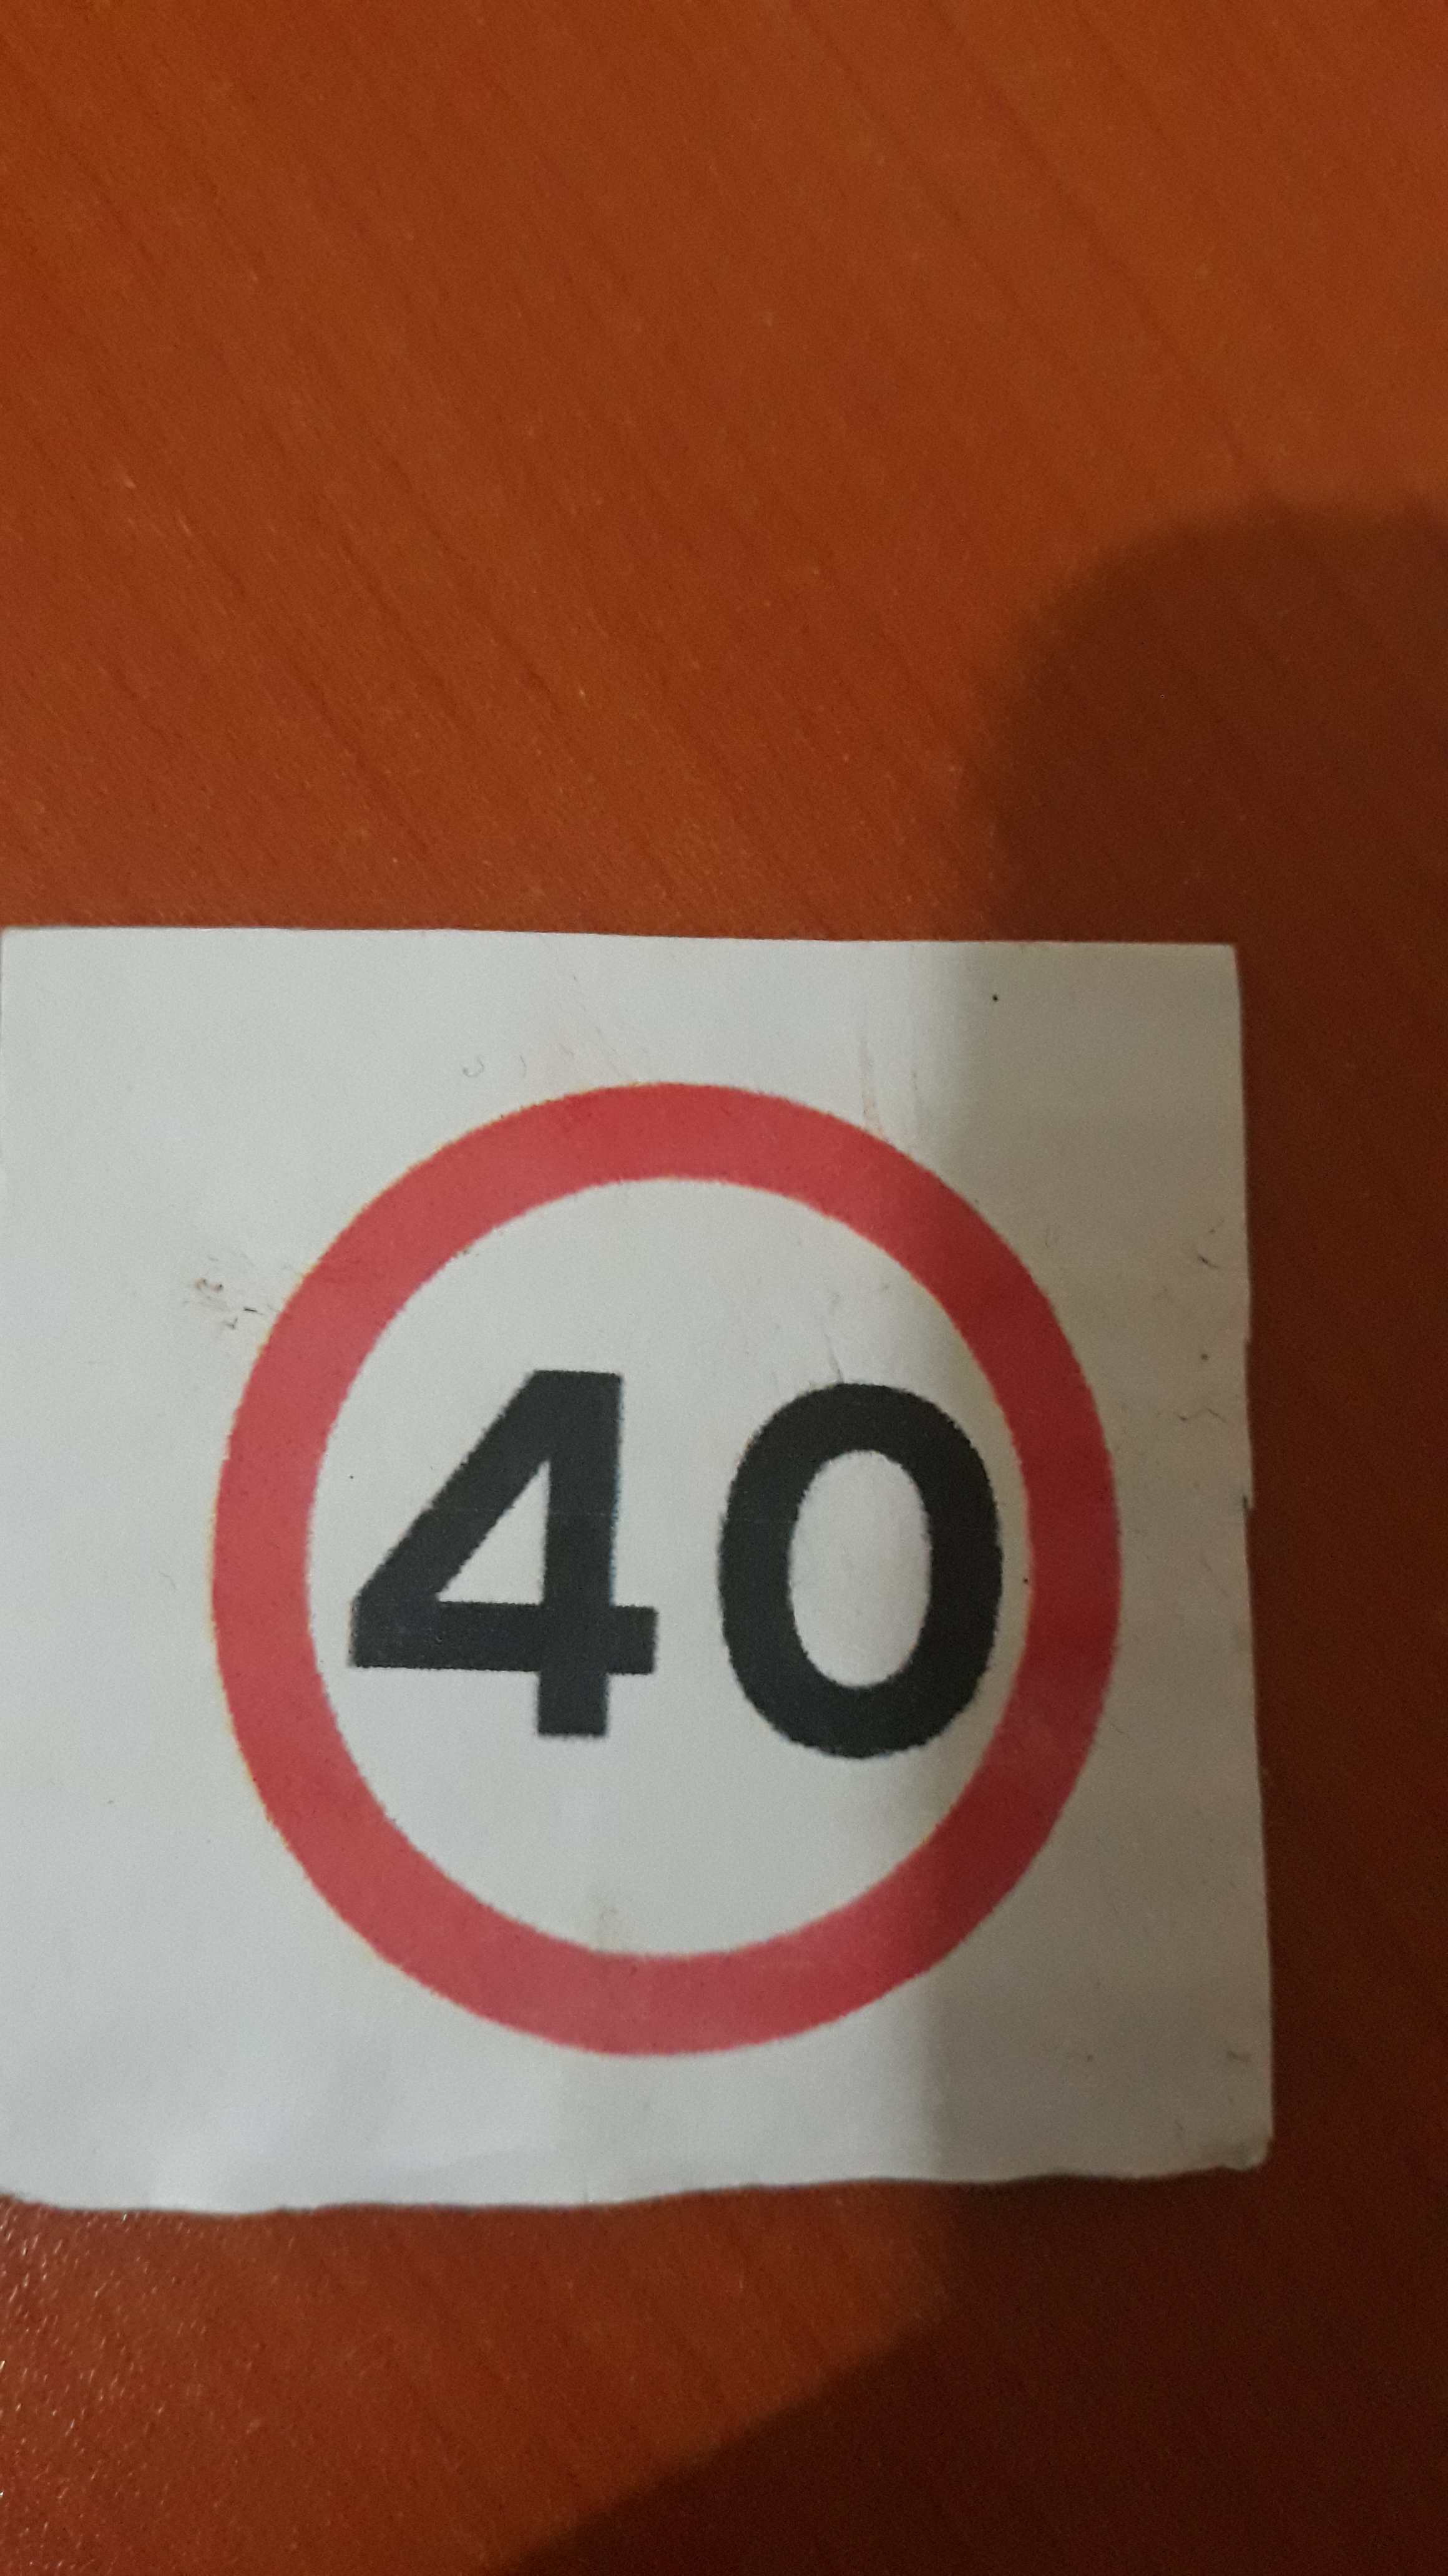40 kph: (170, 1062, 1149, 2072)
